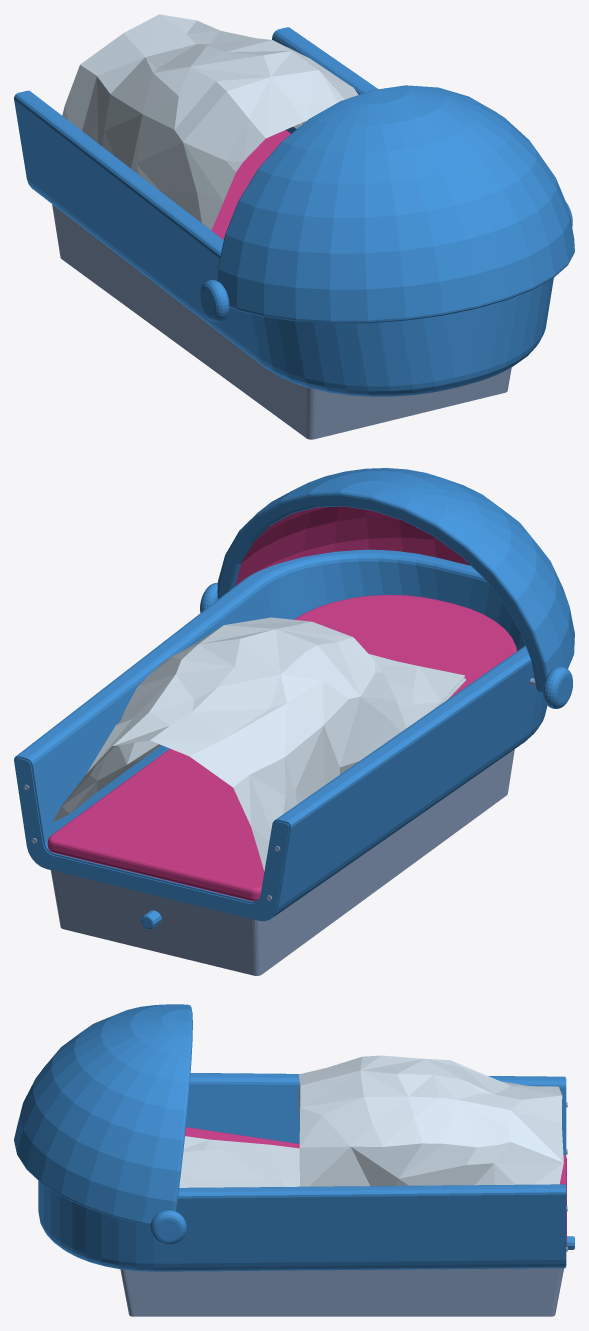
File: Tubby Bed.fbx
3 views of the same model, one above another, from view 1: azimuth 30°, elevation 25°; view 2: azimuth 150°, elevation 25°; view 3: azimuth 270°, elevation 25° (orthographic). The views are drawn at different scales.
Parts seen in each view (by area): view 1: bed, bed.blanket.used; view 2: bed, bed.blanket.used, bed.blanket; view 3: bed, bed.blanket.used, bed.blanket.
Boxes of the visible parts, x1,y1,x2,y2 form: bed: (14,27,574,439); bed.blanket.used: (62,14,358,230); bed: (14,468,574,975); bed.blanket.used: (52,617,406,871); bed.blanket: (369,654,465,728); bed: (14,1004,574,1316); bed.blanket.used: (298,1055,563,1186); bed.blanket: (179,1136,299,1187).
Size of the model in its own units: 212 by 170 by 340.
